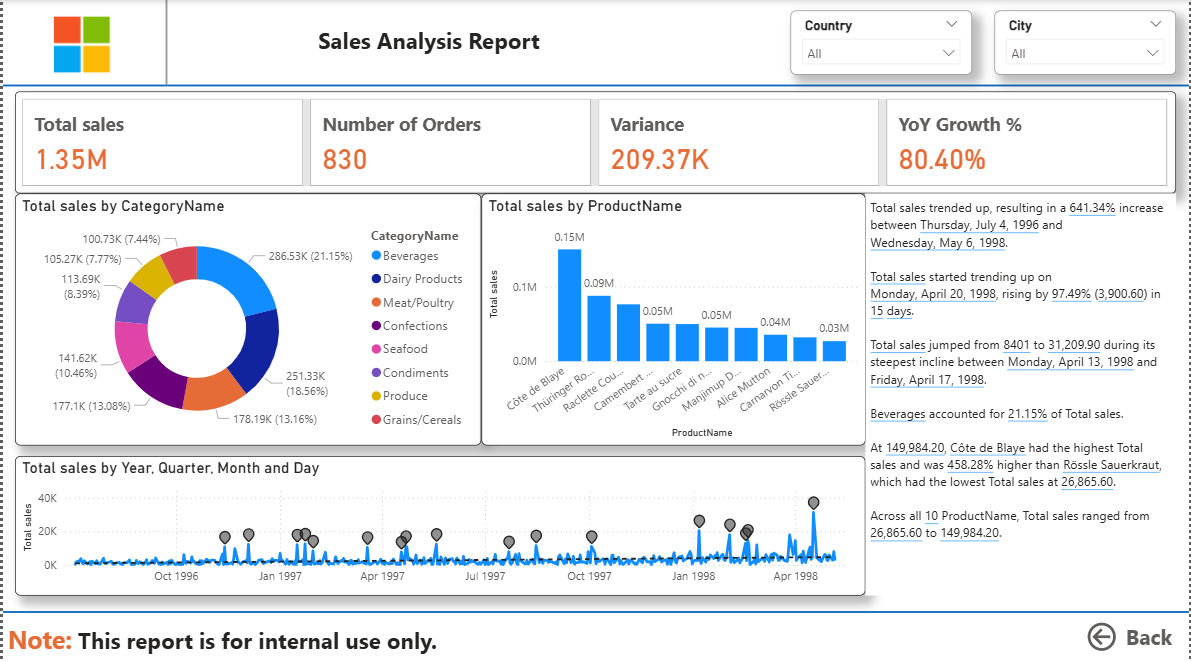

This screenshot's page, from the dashboard's own definition file:
{"tool":"powerbi","page":{"name":"Summary","canvas":[1280,720],"ordinal":1},"visuals":[{"type":"shape","box":[0,85.8,1280.8,13],"z":0},{"type":"shape","box":[0,654.2,1280.8,13],"z":1000},{"type":"image","box":[0,9.7,170,76.1],"z":2000},{"type":"shape","box":[170,0,13,92.3],"z":3000},{"type":"textbox","box":[335.2,21,278.5,51.8],"z":4000},{"type":"slicer","fields":{"Values":["Dim Customers.Country"]},"box":[850.1,11.3,195.9,69.6],"z":5000},{"type":"slicer","fields":{"Values":["Dim Customers.City"]},"box":[1070.3,11.3,195.9,69.6],"z":6000},{"type":"textbox","box":[0,667.1,474.4,47],"z":7000},{"type":"cardVisual","fields":{"Data":["Fact Order_Details.Total sales","Fact Order_Details.Number of Orders","Key Measures.Variance","Key Measures.YoY Growth %"]},"box":[13,98.8,1253.3,110.1],"z":8000},{"type":"donutChart","fields":{"Y":["Fact Order_Details.Total sales"],"Category":["Dim Categories.CategoryName"]},"box":[13,208.9,503.6,272],"z":9000},{"type":"clusteredColumnChart","fields":{"Category":["Dim Products.ProductName"],"Y":["Fact Order_Details.Total sales"]},"box":[516.5,208.9,414.5,272],"z":10000},{"type":"lineChart","fields":{"Category":["Dim Date.Date.Variation.Date Hierarchy.Year","Dim Date.Date.Variation.Date Hierarchy.Quarter","Dim Date.Date.Variation.Date Hierarchy.Month","Dim Date.Date.Variation.Date Hierarchy.Day"],"Y":["Fact Order_Details.Total sales"]},"box":[13,492.2,918.1,150.6],"z":11000},{"type":"actionButton","box":[1165.8,667.1,100.4,40.5],"z":12000},{"type":"textbox","box":[931.1,208.9,335.2,434],"z":13000}]}

Visuals, with their boxes in screenshot pixels (x1, y1, x2, y2), scaled from the page's 1280x720 canvas onto the 1191x662 screenshot:
shape: box=[0, 79, 1190, 91]
shape: box=[0, 602, 1190, 613]
image: box=[0, 9, 158, 79]
shape: box=[158, 0, 170, 85]
textbox: box=[312, 19, 571, 67]
slicer - Dim Customers.Country: box=[791, 10, 973, 74]
slicer - Dim Customers.City: box=[996, 10, 1178, 74]
textbox: box=[0, 613, 441, 657]
cardVisual - Fact Order_Details.Total sales x Fact Order_Details.Number of Orders: box=[12, 91, 1178, 192]
donutChart - Fact Order_Details.Total sales x Dim Categories.CategoryName: box=[12, 192, 481, 442]
clusteredColumnChart - Dim Products.ProductName x Fact Order_Details.Total sales: box=[481, 192, 866, 442]
lineChart - Dim Date.Date.Variation.Date Hierarchy.Year x Dim Date.Date.Variation.Date Hierarchy.Quarter: box=[12, 453, 866, 591]
actionButton: box=[1085, 613, 1178, 651]
textbox: box=[866, 192, 1178, 591]
